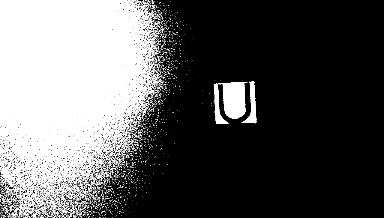U: (213, 83, 254, 121)
